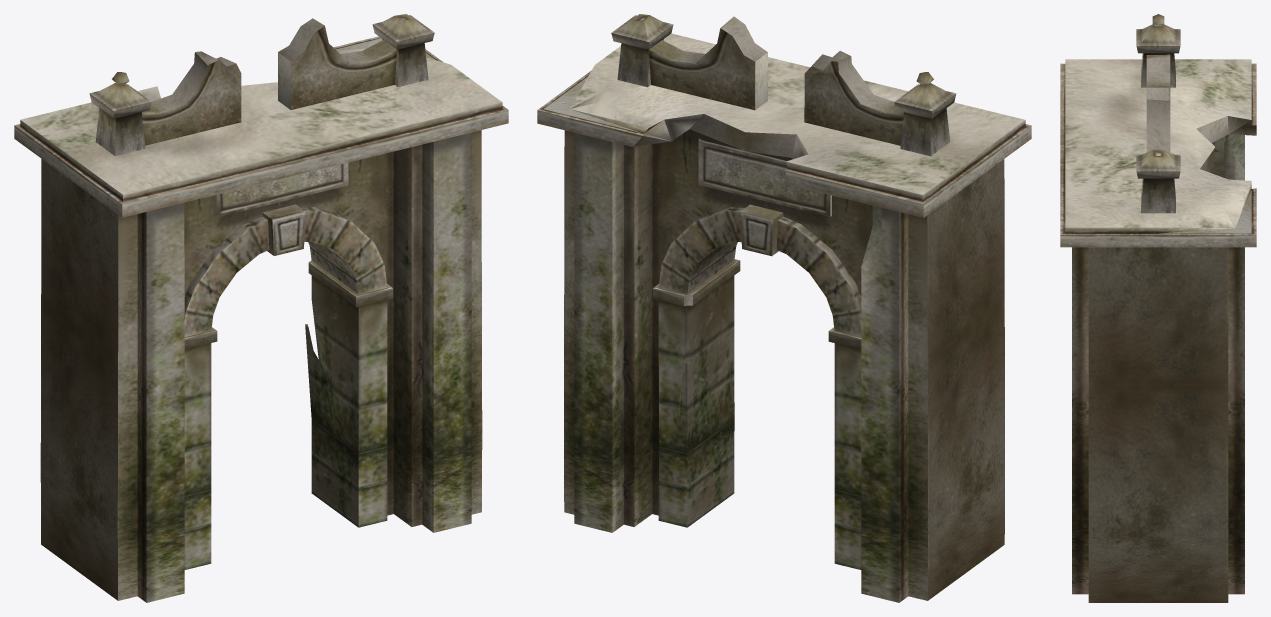
Rendered from pir_m_bld_wal_spanish_archA_burned.fbx.
The picture shows the model from 3 angles, left to right: view 1: azimuth 30°, elevation 25°; view 2: azimuth 150°, elevation 25°; view 3: azimuth 270°, elevation 25°; orthographic projection. The views are drawn at different scales.
Visible parts, largest first — view 1: arch_base, arch_top, arch_main, arch_base1, arch_maintop, arch_main1, arch_top_detail_A2, sign, arch_top_detail_A, arch_keystone1; view 2: arch_base, arch_top, arch_main, arch_base1, arch_maintop, arch_main1, sign1, arch_top_detail_A2, arch_top_detail_A, arch_keystone1; view 3: arch_base, arch_top, arch_base1, arch_top_detail_A, arch_maintop, arch_top_detail_A2.
Boxes of the visible parts, x1,y1,x2,y2 form: arch_base: (40,130,482,528); arch_top: (14,36,508,217); arch_main: (184,207,392,495); arch_base1: (40,429,482,602); arch_maintop: (141,18,396,145); arch_main1: (184,419,387,569); arch_top_detail_A2: (89,83,151,155); sign: (214,162,348,217); arch_top_detail_A: (372,14,434,86); arch_keystone1: (262,204,305,255); arch_base: (564,129,1004,528); arch_top: (537,33,1031,217); arch_main: (653,207,861,495); arch_base1: (564,438,1004,602); arch_maintop: (649,16,904,145); arch_main1: (658,419,861,569); sign1: (698,138,831,216); arch_top_detail_A2: (894,83,956,156); arch_top_detail_A: (611,14,673,87); arch_keystone1: (740,204,783,256); arch_base: (1072,134,1244,535); arch_top: (1060,59,1256,247); arch_base1: (1072,526,1244,602); arch_top_detail_A: (1136,149,1180,213); arch_maintop: (1146,54,1170,151); arch_top_detail_A2: (1136,24,1180,87).
Size of the model in its own units: 2442 by 2979 by 1181.
Materials: 1 (1 with a texture image).
